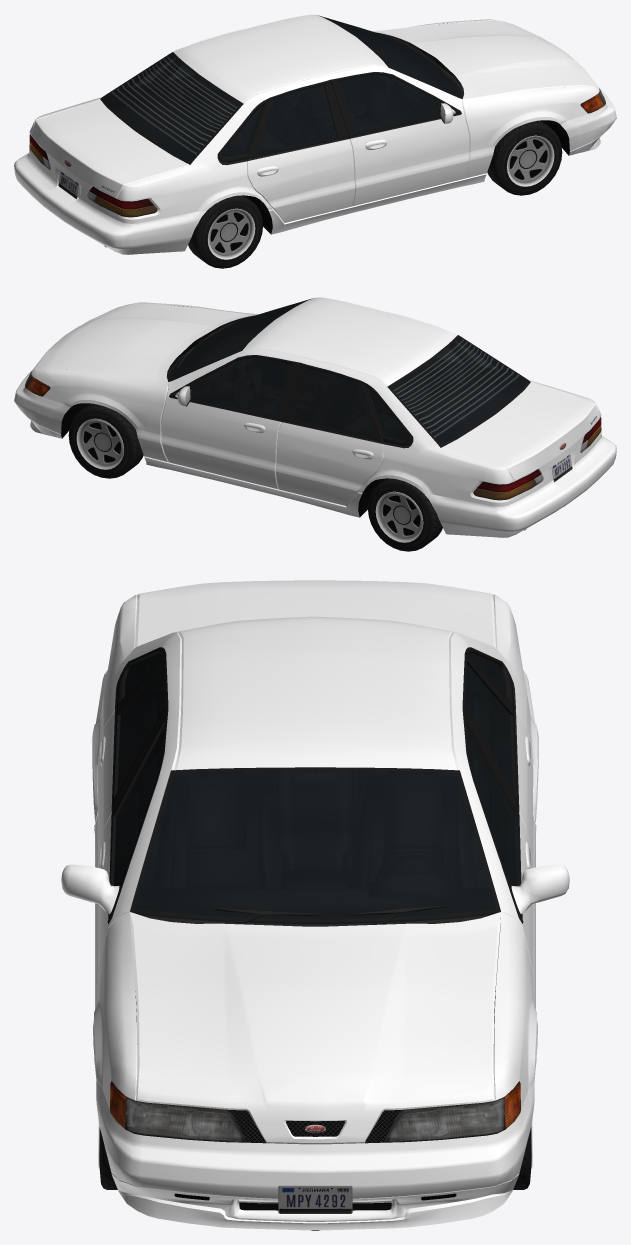
File: Murphy92.fbx
3 renders of one model, top to bottom at view 1: azimuth 30°, elevation 25°; view 2: azimuth 150°, elevation 25°; view 3: azimuth 270°, elevation 25°, orthographic. The views are drawn at different scales.
Parts seen in each view (by area): view 1: Murphy92_Body, Murphy92_Interior, Murphy92_Hood, Murphy92_Trunkdoor, Murphy92_Glass_Rear, Murphy92_Bumper_rear, Murphy92_Bottom, Murphy92_Glass_Body, Murphy92_WheelStock_FR, Murphy92_Glass_Passanger, Murphy92_WheelStock_RR, Murphy92_Windshield (+4 smaller); view 2: Murphy92_Body, Murphy92_Interior, Murphy92_Hood, Murphy92_Trunkdoor, Murphy92_Glass_Rear, Murphy92_Bumper_rear, Murphy92_Bottom, Murphy92_Glass_Body, Murphy92_WheelStock_FL, Murphy92_Glass_Driver, Murphy92_WheelStock_RL, Murphy92_Windshield (+5 smaller); view 3: Murphy92_Body, Murphy92_Hood, Murphy92_Interior, Murphy92_Windshield, Murphy92_Bumper_Front, Murphy92_Bottom, Murphy92_Trunkdoor, Murphy92_Headlights_Glass, Murphy92_Headlights, Murphy92_Glass_Body, Murphy92_Glass_Driver, Murphy92_Glass_Passanger (+3 smaller).
Part boxes in pixels (box(x1,y1,x2,y2)): Murphy92_Body: box(29, 14, 599, 234); Murphy92_Interior: box(104, 18, 459, 160); Murphy92_Hood: box(372, 20, 599, 99); Murphy92_Trunkdoor: box(31, 99, 189, 198); Murphy92_Glass_Rear: box(103, 54, 240, 161); Murphy92_Bumper_rear: box(14, 153, 206, 254); Murphy92_Bottom: box(100, 15, 569, 247); Murphy92_Glass_Body: box(133, 58, 337, 157); Murphy92_WheelStock_FR: box(487, 120, 562, 195); Murphy92_Glass_Passanger: box(339, 74, 439, 133); Murphy92_WheelStock_RR: box(188, 195, 262, 268); Murphy92_Windshield: box(320, 16, 460, 97); Murphy92_Body: box(31, 297, 601, 517); Murphy92_Interior: box(171, 301, 526, 443); Murphy92_Hood: box(31, 303, 258, 382); Murphy92_Trunkdoor: box(441, 382, 599, 481); Murphy92_Glass_Rear: box(390, 337, 527, 444); Murphy92_Bumper_rear: box(424, 436, 616, 537); Murphy92_Bottom: box(61, 298, 530, 530); Murphy92_Glass_Body: box(293, 341, 497, 440); Murphy92_WheelStock_FL: box(68, 403, 143, 478); Murphy92_Glass_Driver: box(191, 357, 291, 417); Murphy92_WheelStock_RL: box(368, 478, 442, 551); Murphy92_Windshield: box(170, 299, 310, 380); Murphy92_Body: box(61, 594, 569, 1111); Murphy92_Hood: box(130, 912, 500, 1144); Murphy92_Interior: box(114, 653, 516, 918); Murphy92_Windshield: box(134, 770, 496, 919); Murphy92_Bumper_Front: box(96, 1081, 534, 1230); Murphy92_Bottom: box(107, 647, 523, 1230); Murphy92_Trunkdoor: box(135, 580, 495, 647); Murphy92_Headlights_Glass: box(110, 1081, 520, 1142); Murphy92_Headlights: box(126, 1097, 504, 1141); Murphy92_Glass_Body: box(117, 653, 513, 790); Murphy92_Glass_Driver: box(466, 727, 517, 885); Murphy92_Glass_Passanger: box(113, 727, 164, 885).
Bounding box in the file's own units: 4.95 × 1.39 × 2.05.
